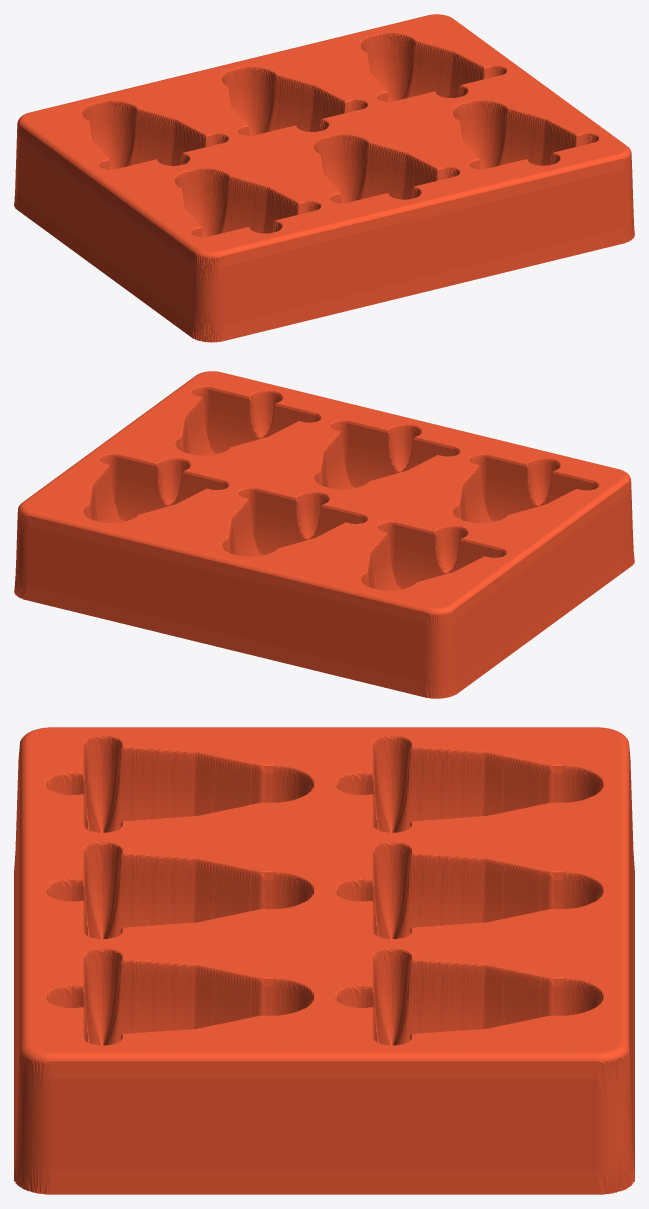
Rendered from mold.glb.
The picture shows the model from 3 angles, top to bottom: view 1: azimuth 30°, elevation 25°; view 2: azimuth 150°, elevation 25°; view 3: azimuth 270°, elevation 25°; orthographic projection. The views are drawn at different scales.
Visible parts, largest first — view 1: geometry_0; view 2: geometry_0; view 3: geometry_0.
Boxes of the visible parts, x1,y1,x2,y2 form: geometry_0: [14, 14, 634, 342]; geometry_0: [14, 371, 634, 698]; geometry_0: [14, 727, 634, 1194].
Bounding box in the file's own units: 0.1915 × 0.036 × 0.1492.
